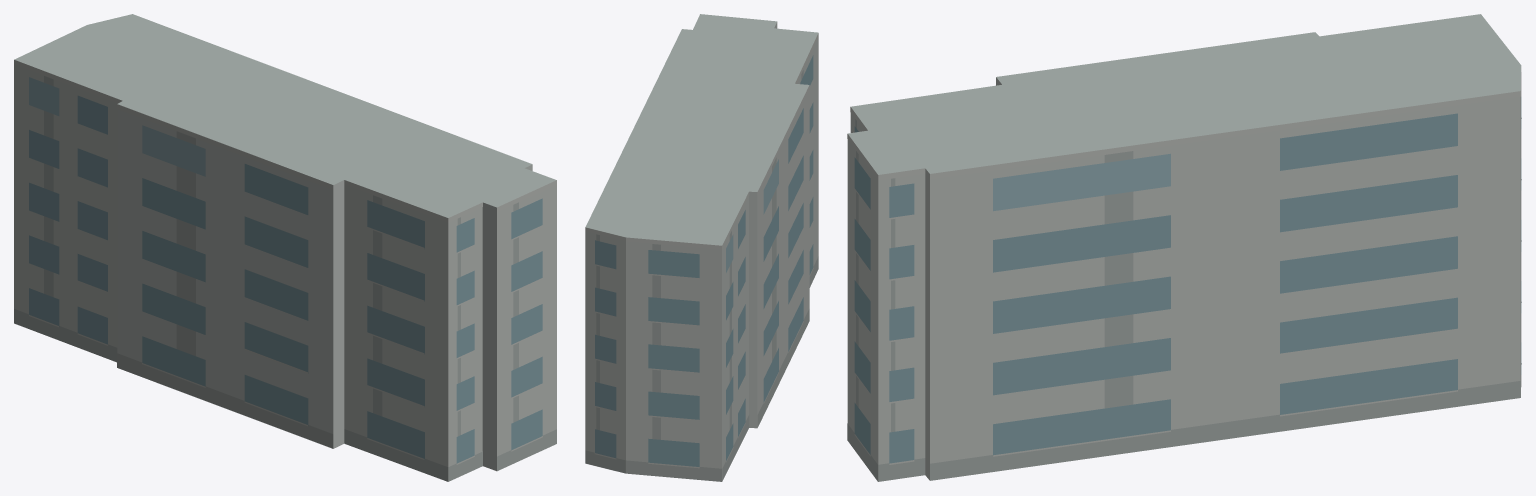
File: survey-upis-32808566.glb
3 views of the same model, side by side, from view 1: azimuth 30°, elevation 25°; view 2: azimuth 150°, elevation 25°; view 3: azimuth 270°, elevation 25° (orthographic). The views are drawn at different scales.
Visible parts, largest first — view 1: survey-upis-32808566.tmp; view 2: survey-upis-32808566.tmp; view 3: survey-upis-32808566.tmp.
Part boxes in pixels (<box>): survey-upis-32808566.tmp: <box>14,14,556,481</box>; survey-upis-32808566.tmp: <box>585,14,818,481</box>; survey-upis-32808566.tmp: <box>847,14,1521,481</box>.
Bounding box in the file's own units: 15.2 × 13.5 × 26.87.
